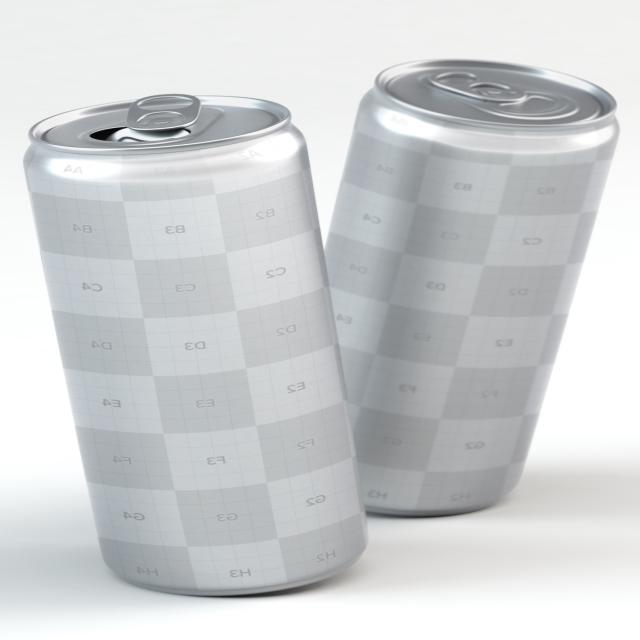metal: (25, 95, 366, 595), (327, 60, 618, 516)
